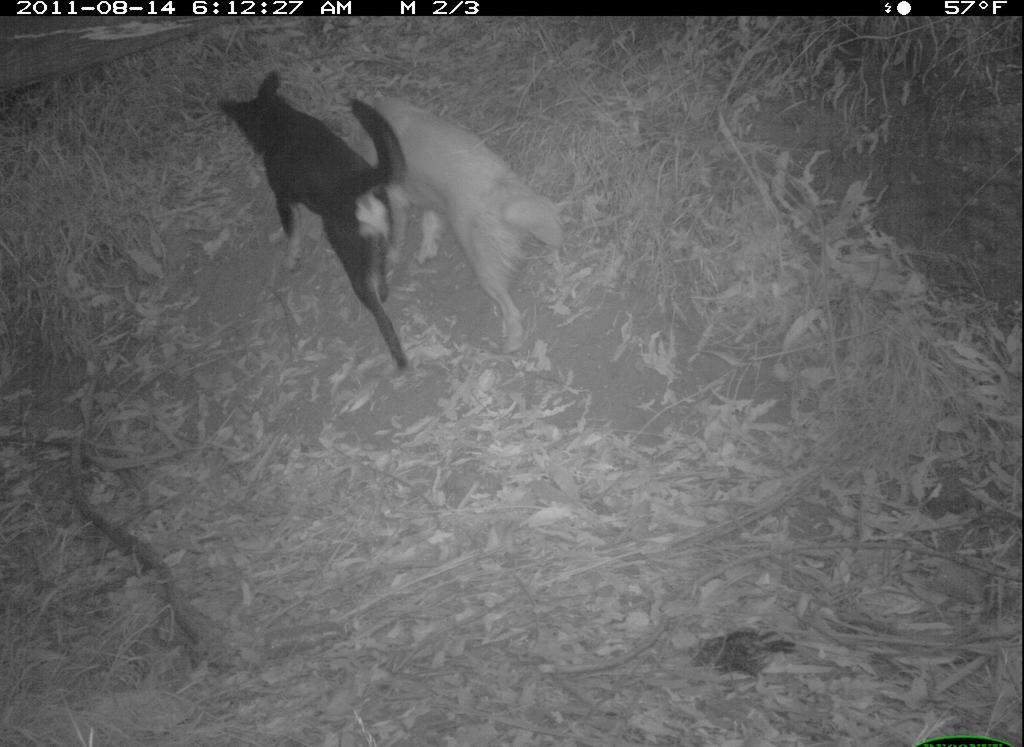dog: (329, 81, 607, 372), (213, 53, 431, 393)
